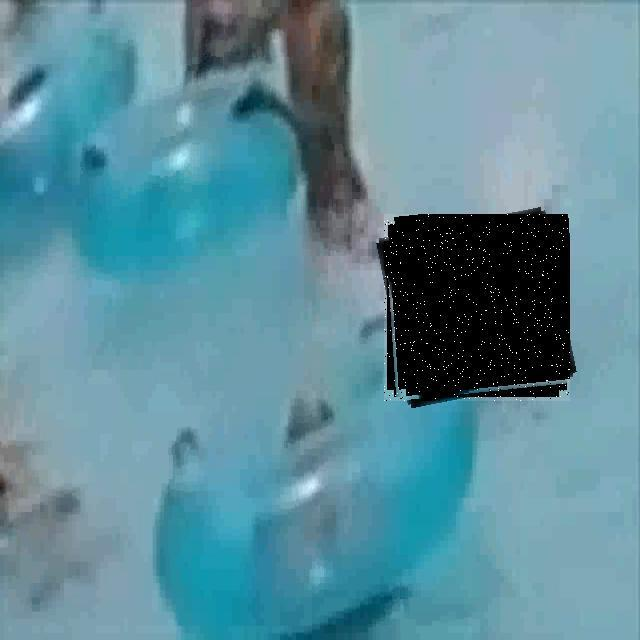Out of Water: (384, 214, 570, 401)
